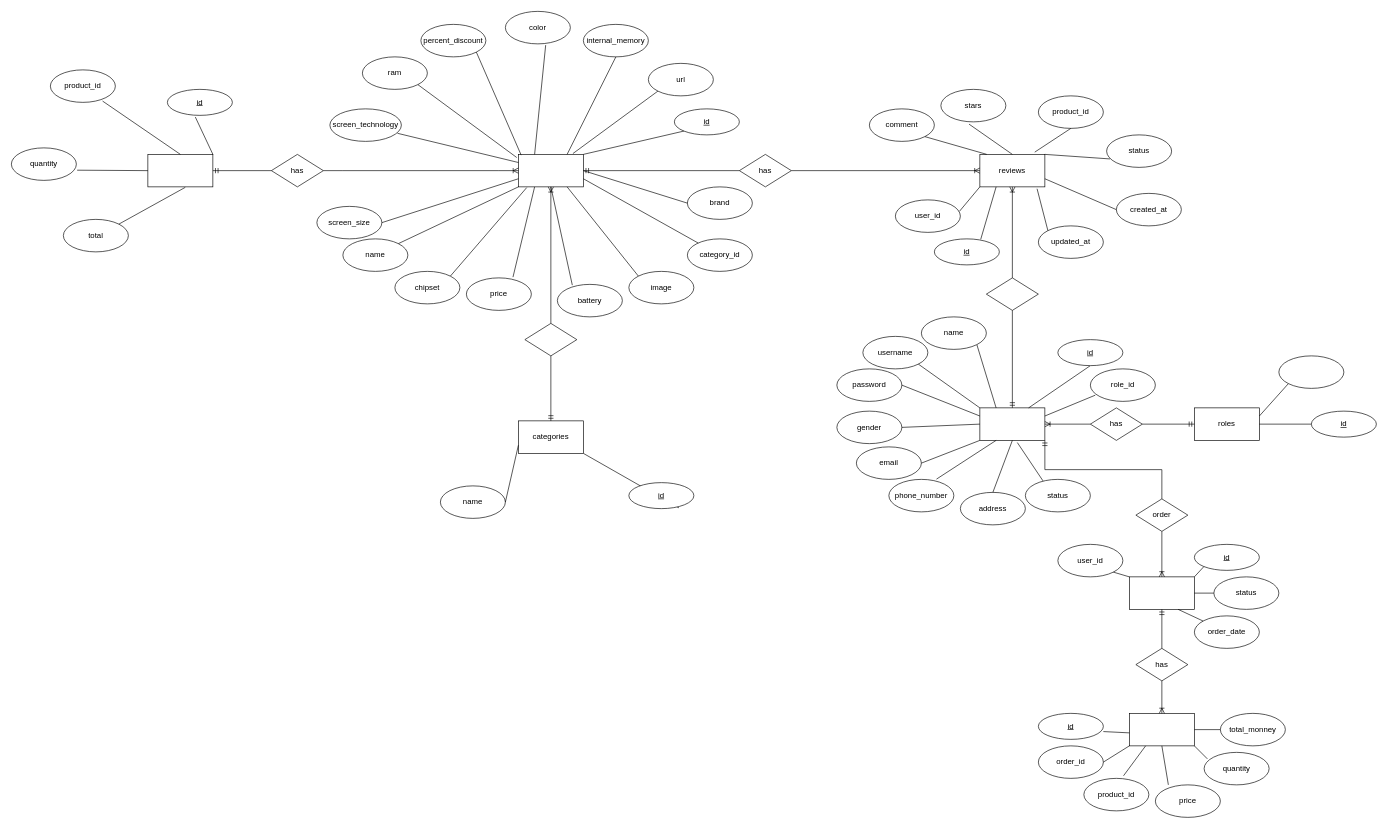
This 1388x829 diagram has some shape labels left out. The box of each missing label's shape, as (x1, y1, x2, y2) in pixels:
belong: (524, 323, 577, 356)
cart: (147, 154, 213, 187)
feedback: (986, 277, 1038, 310)
order_detail: (1129, 713, 1194, 746)
orders: (1129, 576, 1194, 609)
products: (518, 154, 583, 187)
role_name: (1278, 355, 1344, 388)
users: (979, 407, 1045, 440)
